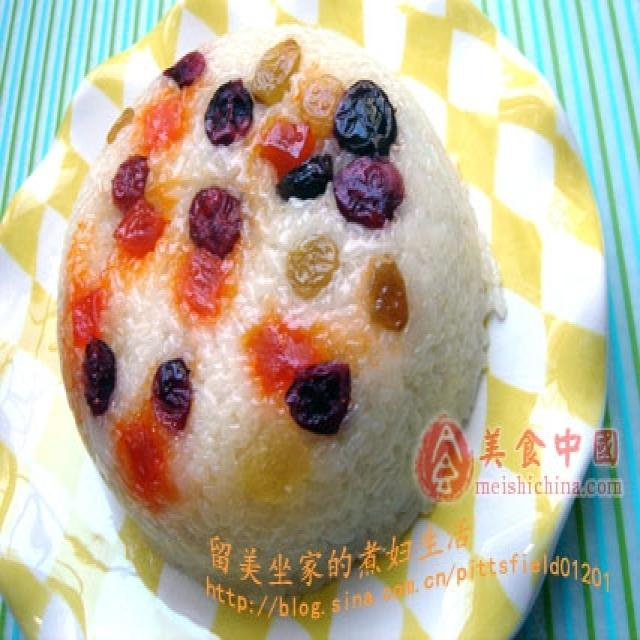米饭主食: (1, 2, 612, 634)
